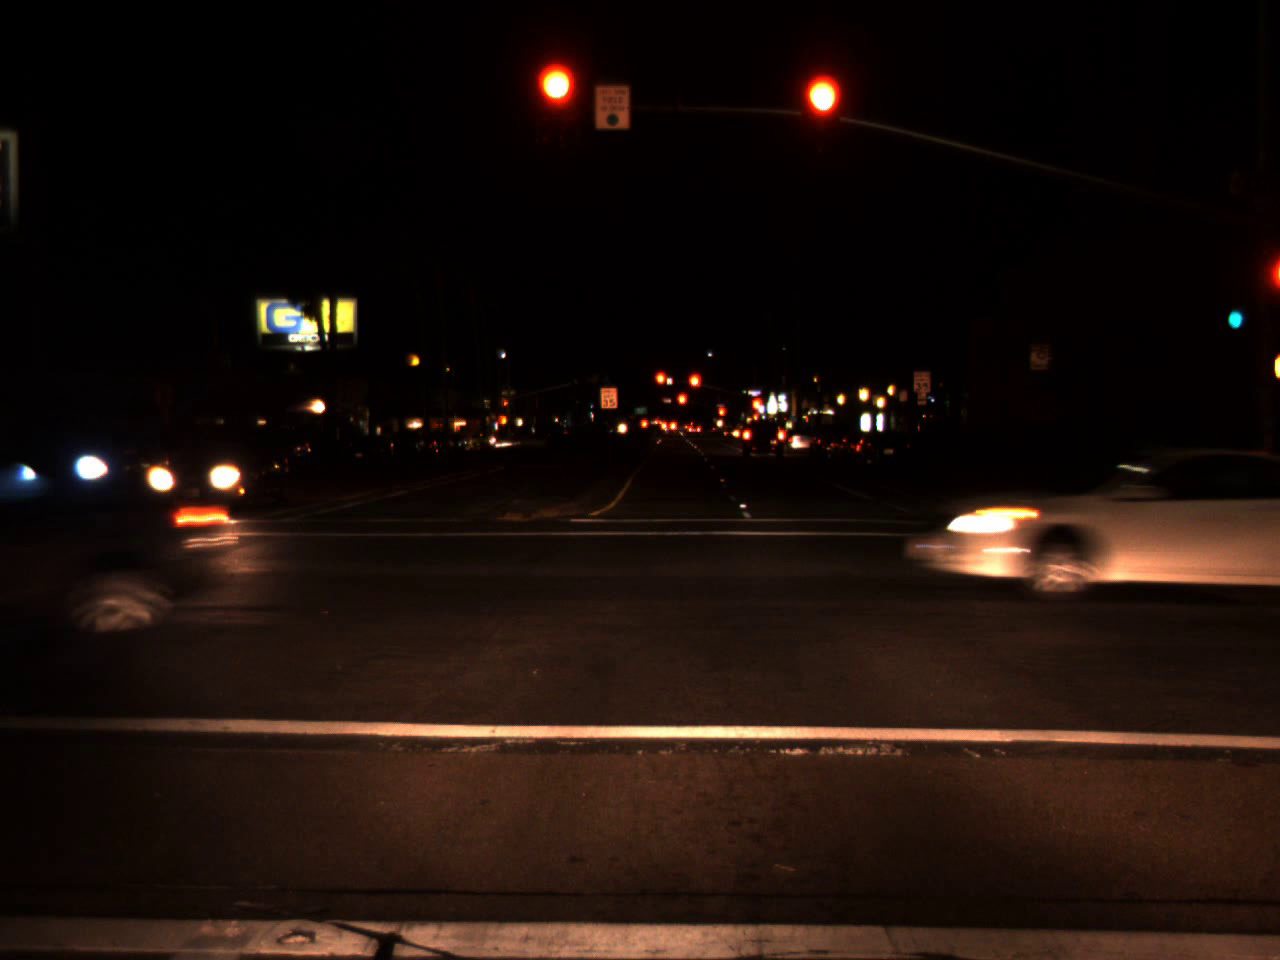stop: (537, 64, 577, 142), (801, 76, 841, 154), (686, 371, 702, 403), (653, 370, 666, 399), (675, 391, 688, 418), (751, 399, 761, 419), (717, 406, 726, 427), (502, 400, 508, 410)
